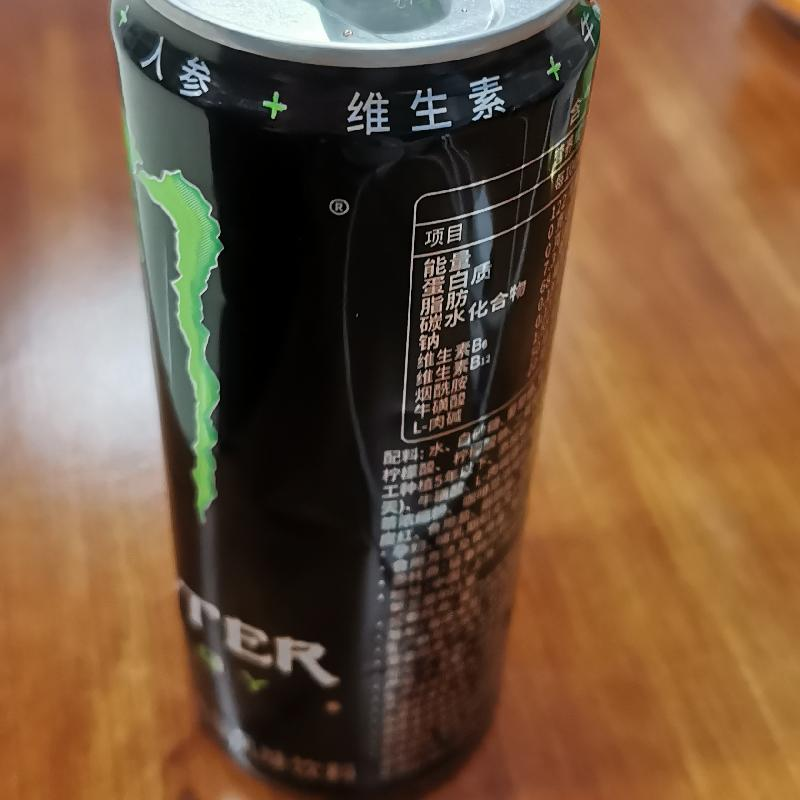cans: (114, 0, 630, 154)
